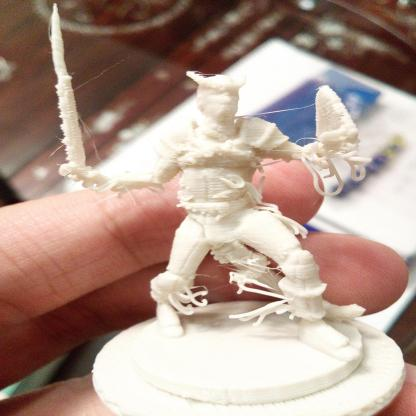fail: (227, 256, 293, 328), (177, 281, 218, 322)
